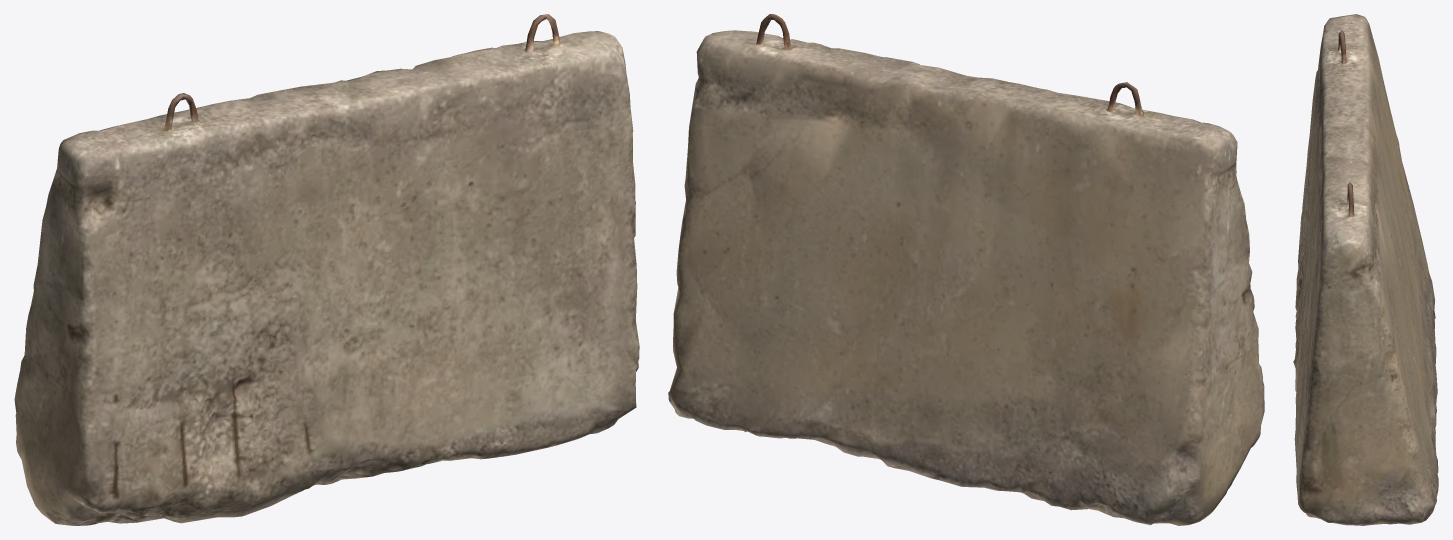
File: concrete_road_barrier_02.glb
3 renders of one model, left to right at view 1: azimuth 30°, elevation 25°; view 2: azimuth 150°, elevation 25°; view 3: azimuth 270°, elevation 25°, orthographic. The views are drawn at different scales.
Parts seen in each view (by area): view 1: concrete_road_barrier_02; view 2: concrete_road_barrier_02; view 3: concrete_road_barrier_02.
Part boxes in pixels (box(x1,y1,x2,y2)): concrete_road_barrier_02: box(14, 14, 639, 525); concrete_road_barrier_02: box(668, 14, 1264, 525); concrete_road_barrier_02: box(1293, 14, 1438, 525).
Bounding box in the file's own units: 1.56 × 1.11 × 0.4422.
Materials: 1 (1 with a texture image).
